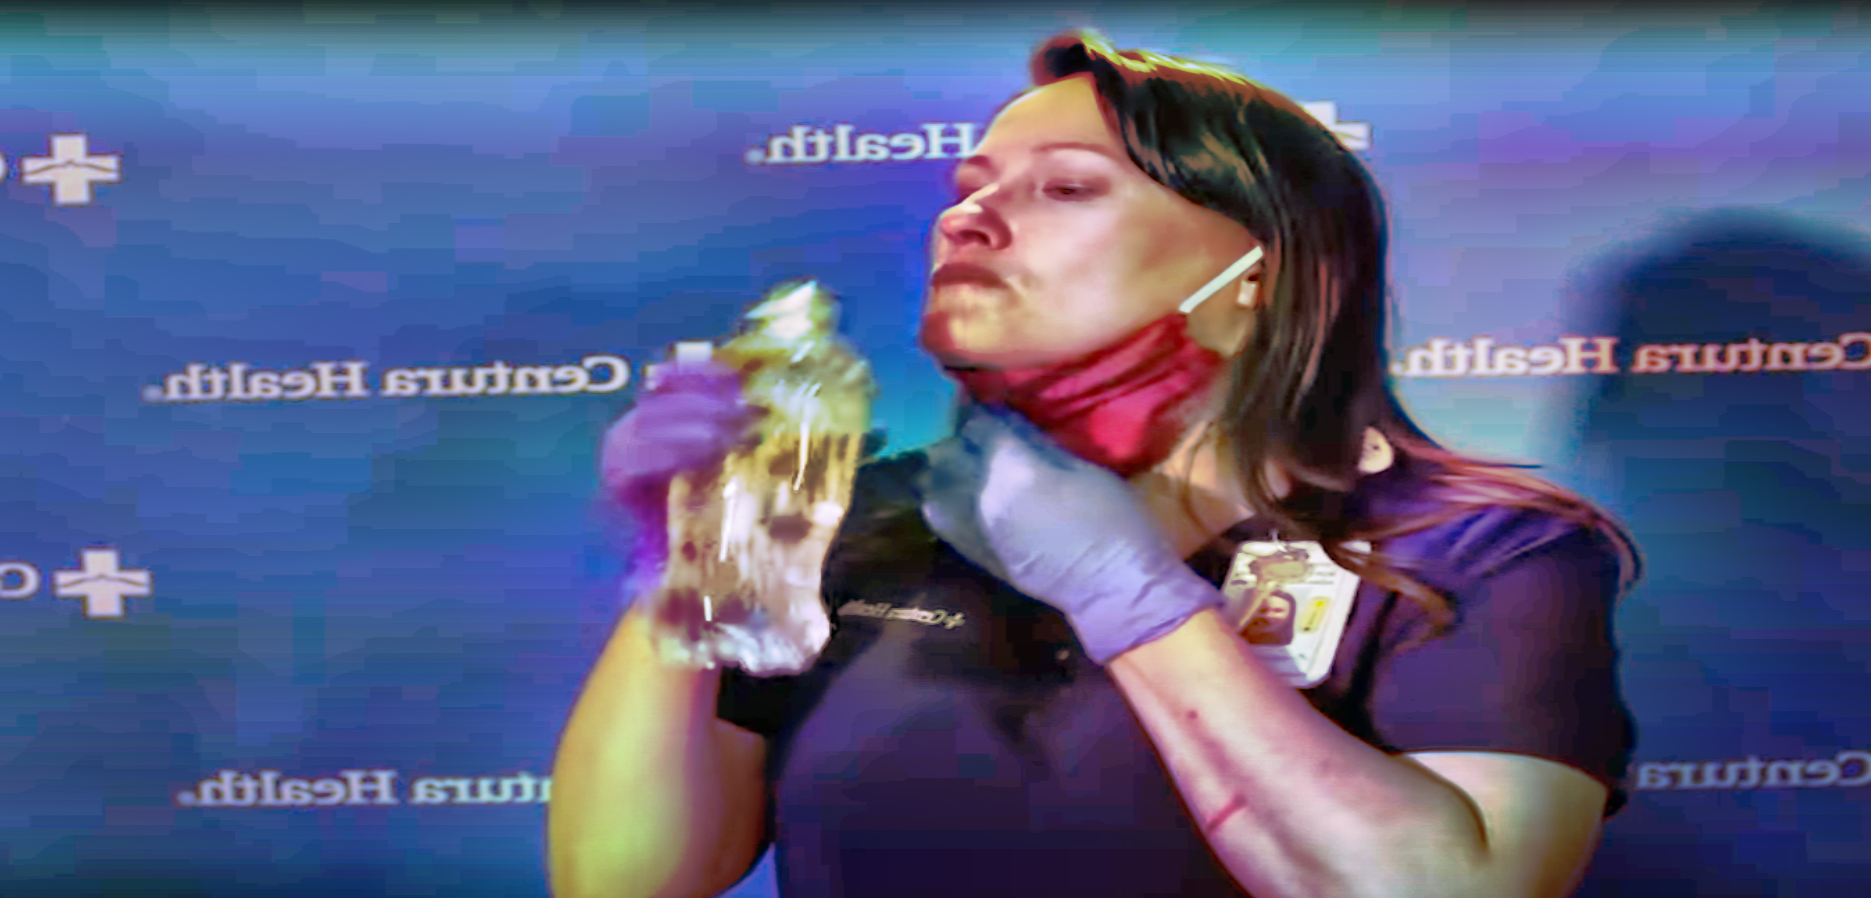mask_weared_incorrect: (919, 40, 1381, 477)
